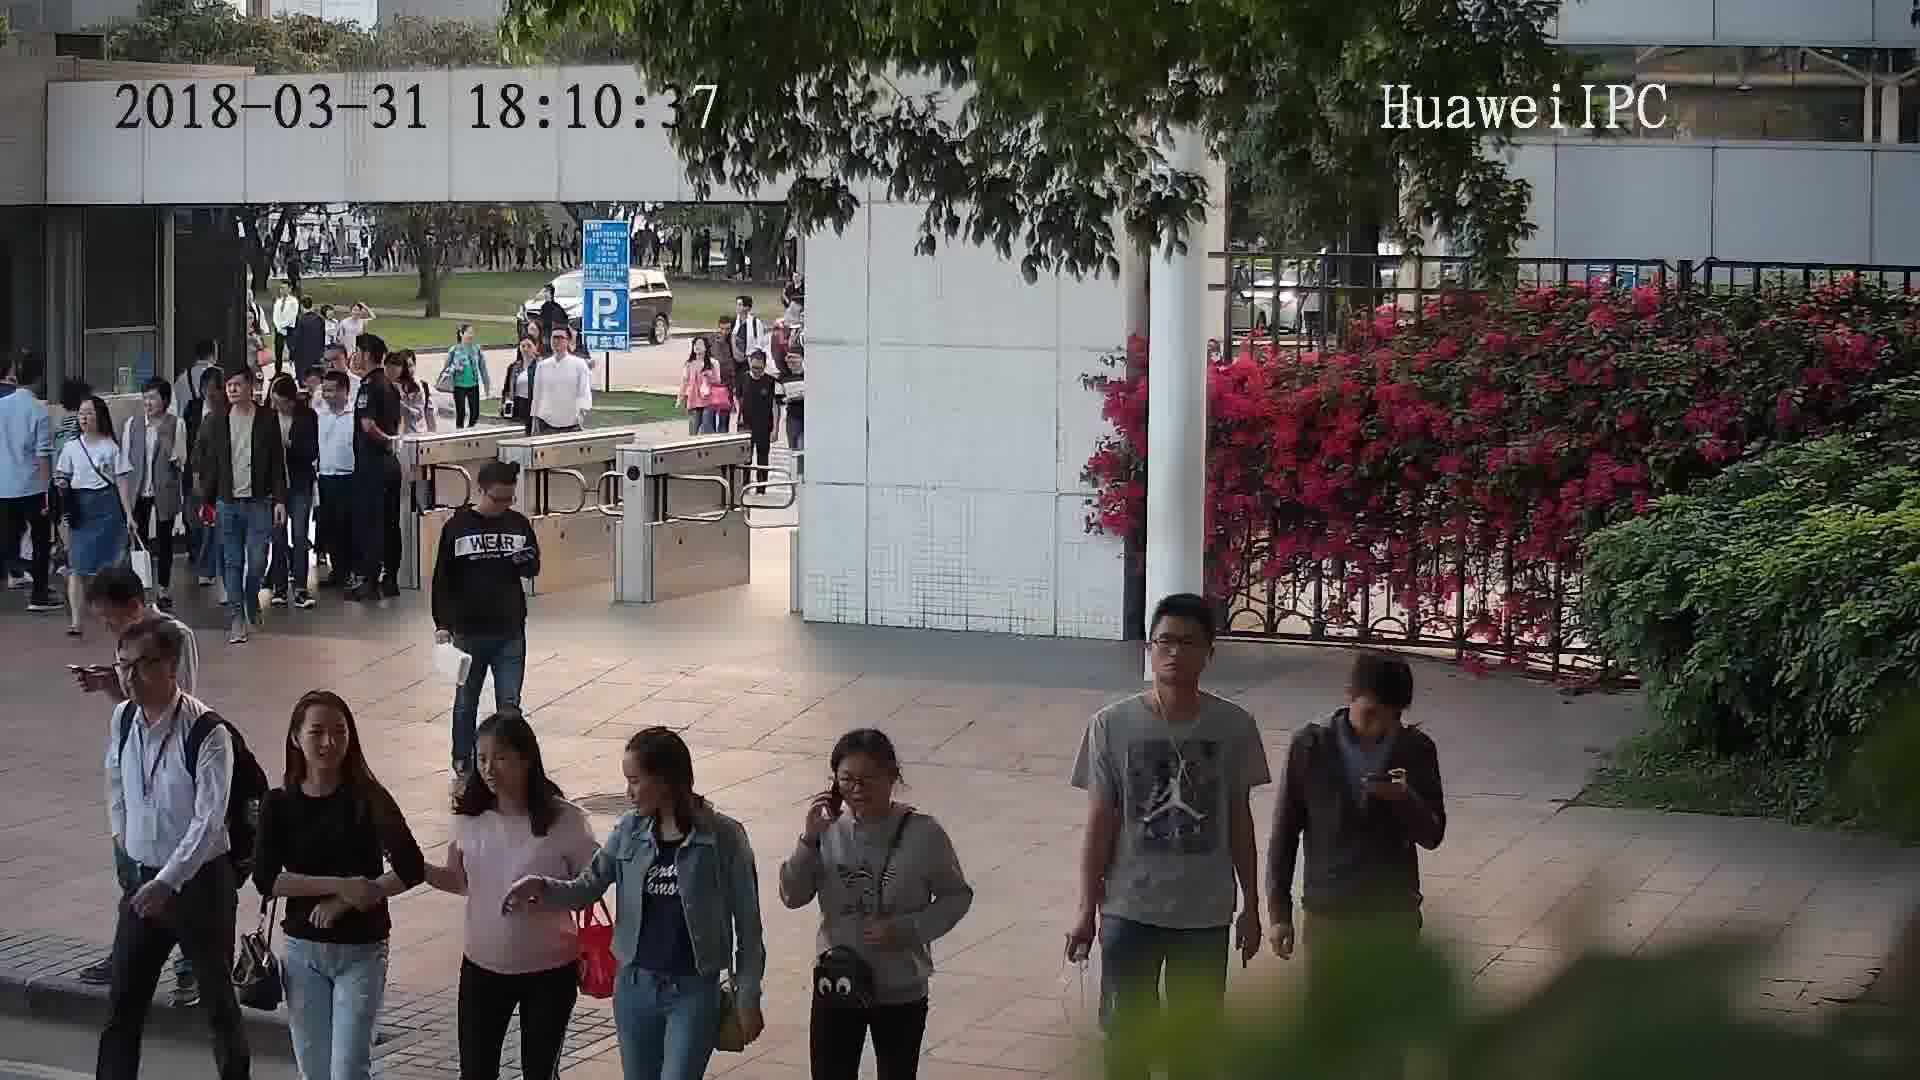face: (104, 631, 181, 708), (606, 749, 676, 819), (1144, 614, 1213, 683), (828, 748, 896, 816), (295, 708, 357, 770), (469, 736, 529, 796)
person: (1093, 596, 1253, 753), (603, 726, 747, 869), (812, 725, 951, 866), (260, 687, 394, 827), (1289, 652, 1431, 771), (455, 711, 585, 841), (109, 624, 235, 755), (93, 565, 182, 664), (443, 461, 537, 545), (216, 363, 272, 434), (67, 394, 124, 463), (3, 350, 50, 421), (130, 374, 183, 436), (263, 370, 314, 434), (47, 376, 93, 440), (319, 369, 362, 429), (350, 333, 393, 393), (539, 326, 593, 373), (183, 332, 226, 389), (179, 362, 220, 420), (387, 346, 432, 395), (741, 346, 784, 389), (289, 293, 332, 336), (502, 334, 541, 383), (683, 333, 727, 374), (329, 299, 375, 336), (706, 311, 742, 356), (450, 320, 482, 354), (734, 292, 762, 325)
